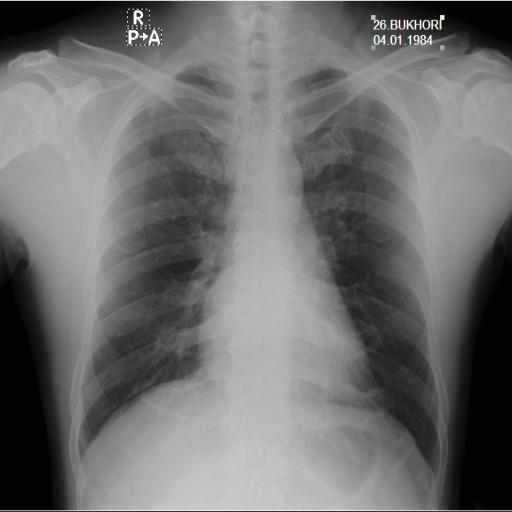normal: (62, 34, 452, 488)
